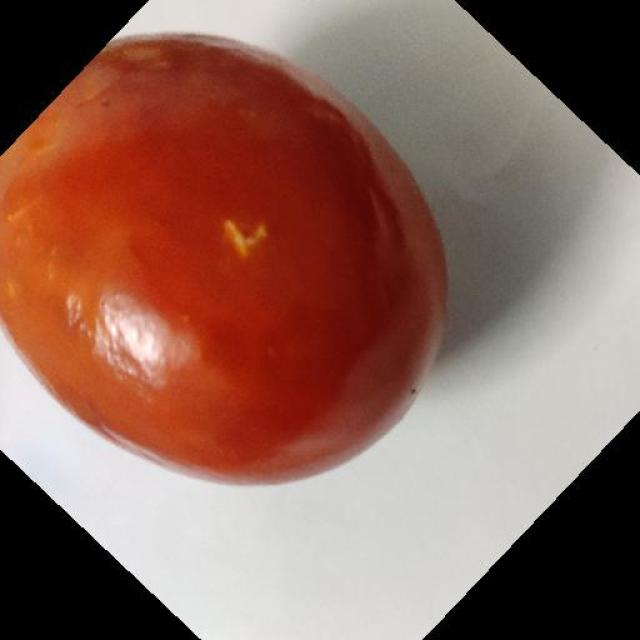Stale_tomato: (5, 32, 437, 381)
